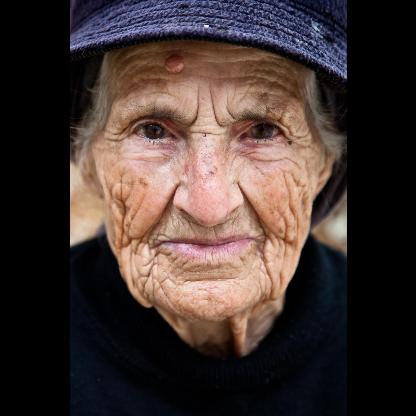Female: (80, 33, 336, 315)
